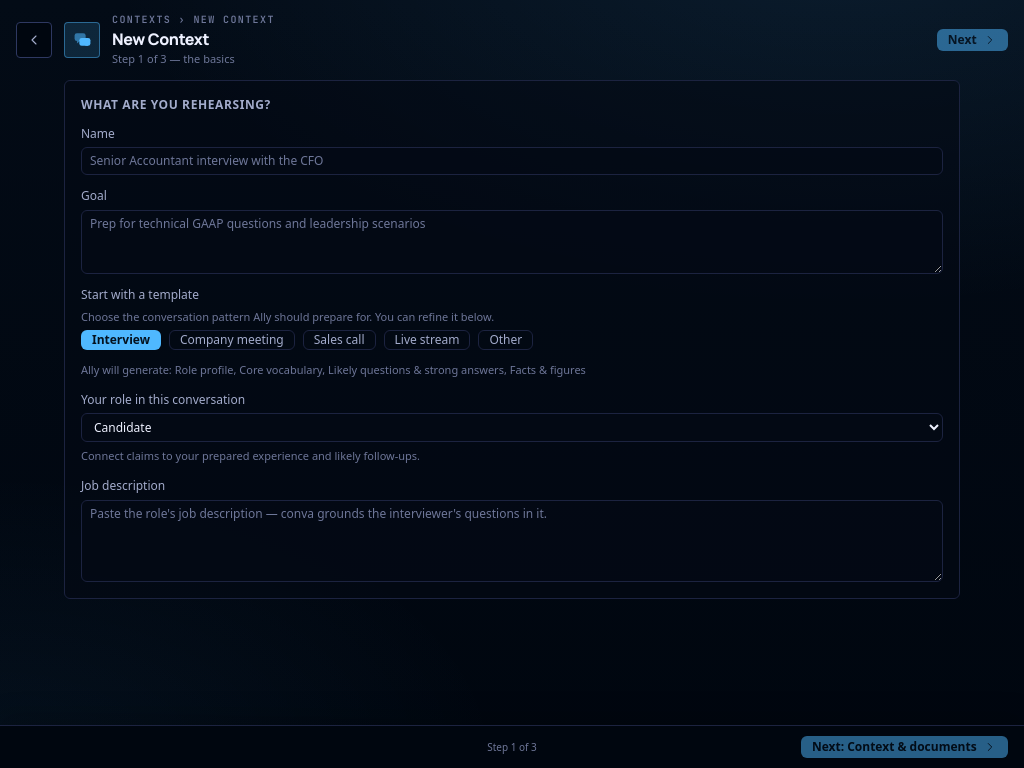
ContextSetup wizard › defaults web research on for the Interview type
The image size is (1024, 768).
// Name is required to advance to step 2.
Type "My interview" into the field with placeholder "Senior Accountant interview with the CFO". click: point(512, 161)
box: [81,147,943,175]
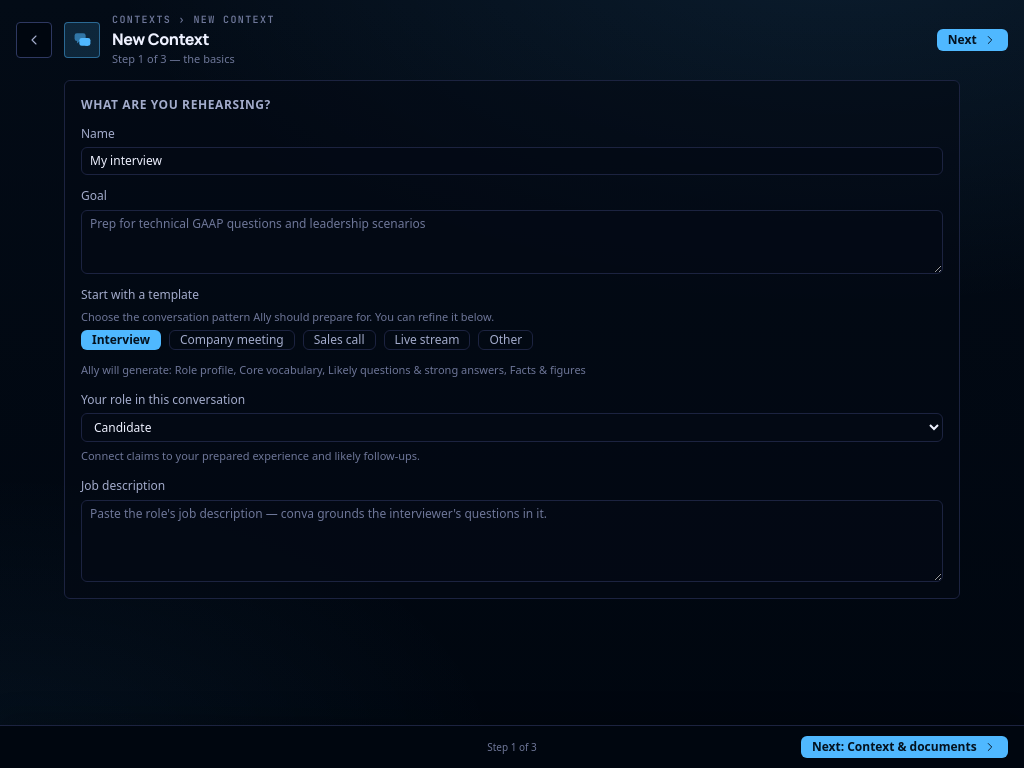
Click the button "Next: Context & documents". click: point(904, 747)
box: [801,736,1008,758]
(page scrolled)
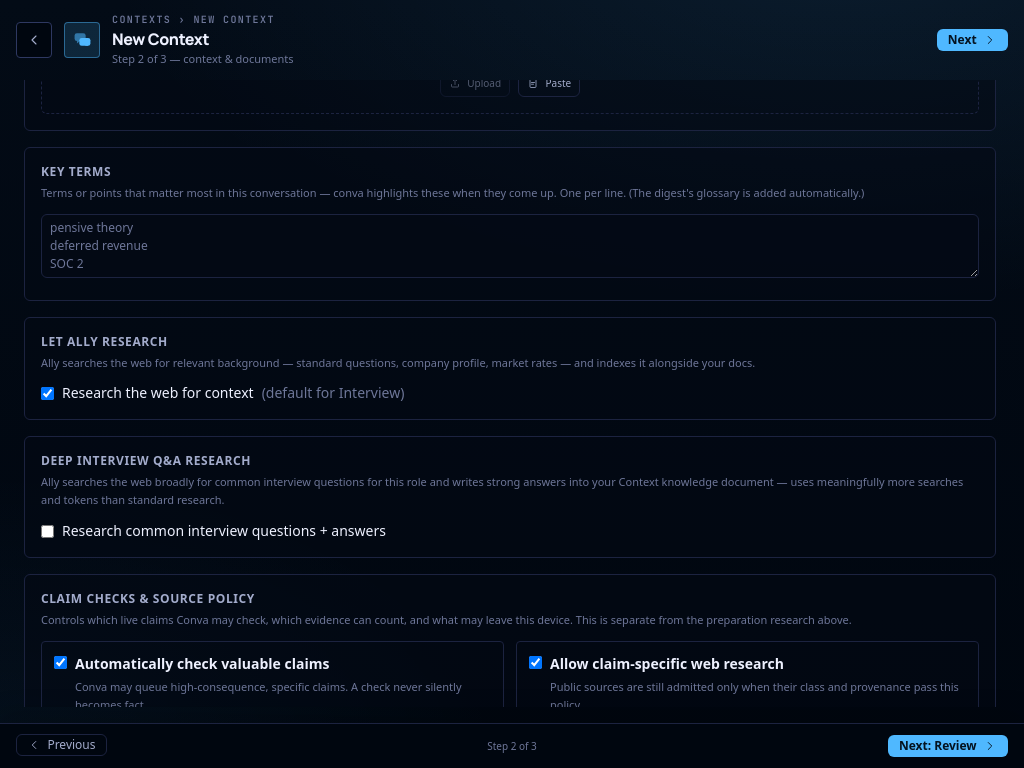
Expected: the checkbox labelled "Research the web for context (default for Interview)" is checked, [41,387,54,400]
